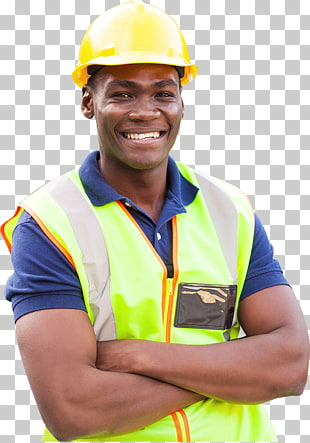casco: (70, 1, 199, 90)
